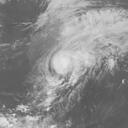cyclone: (45, 44, 86, 87)
